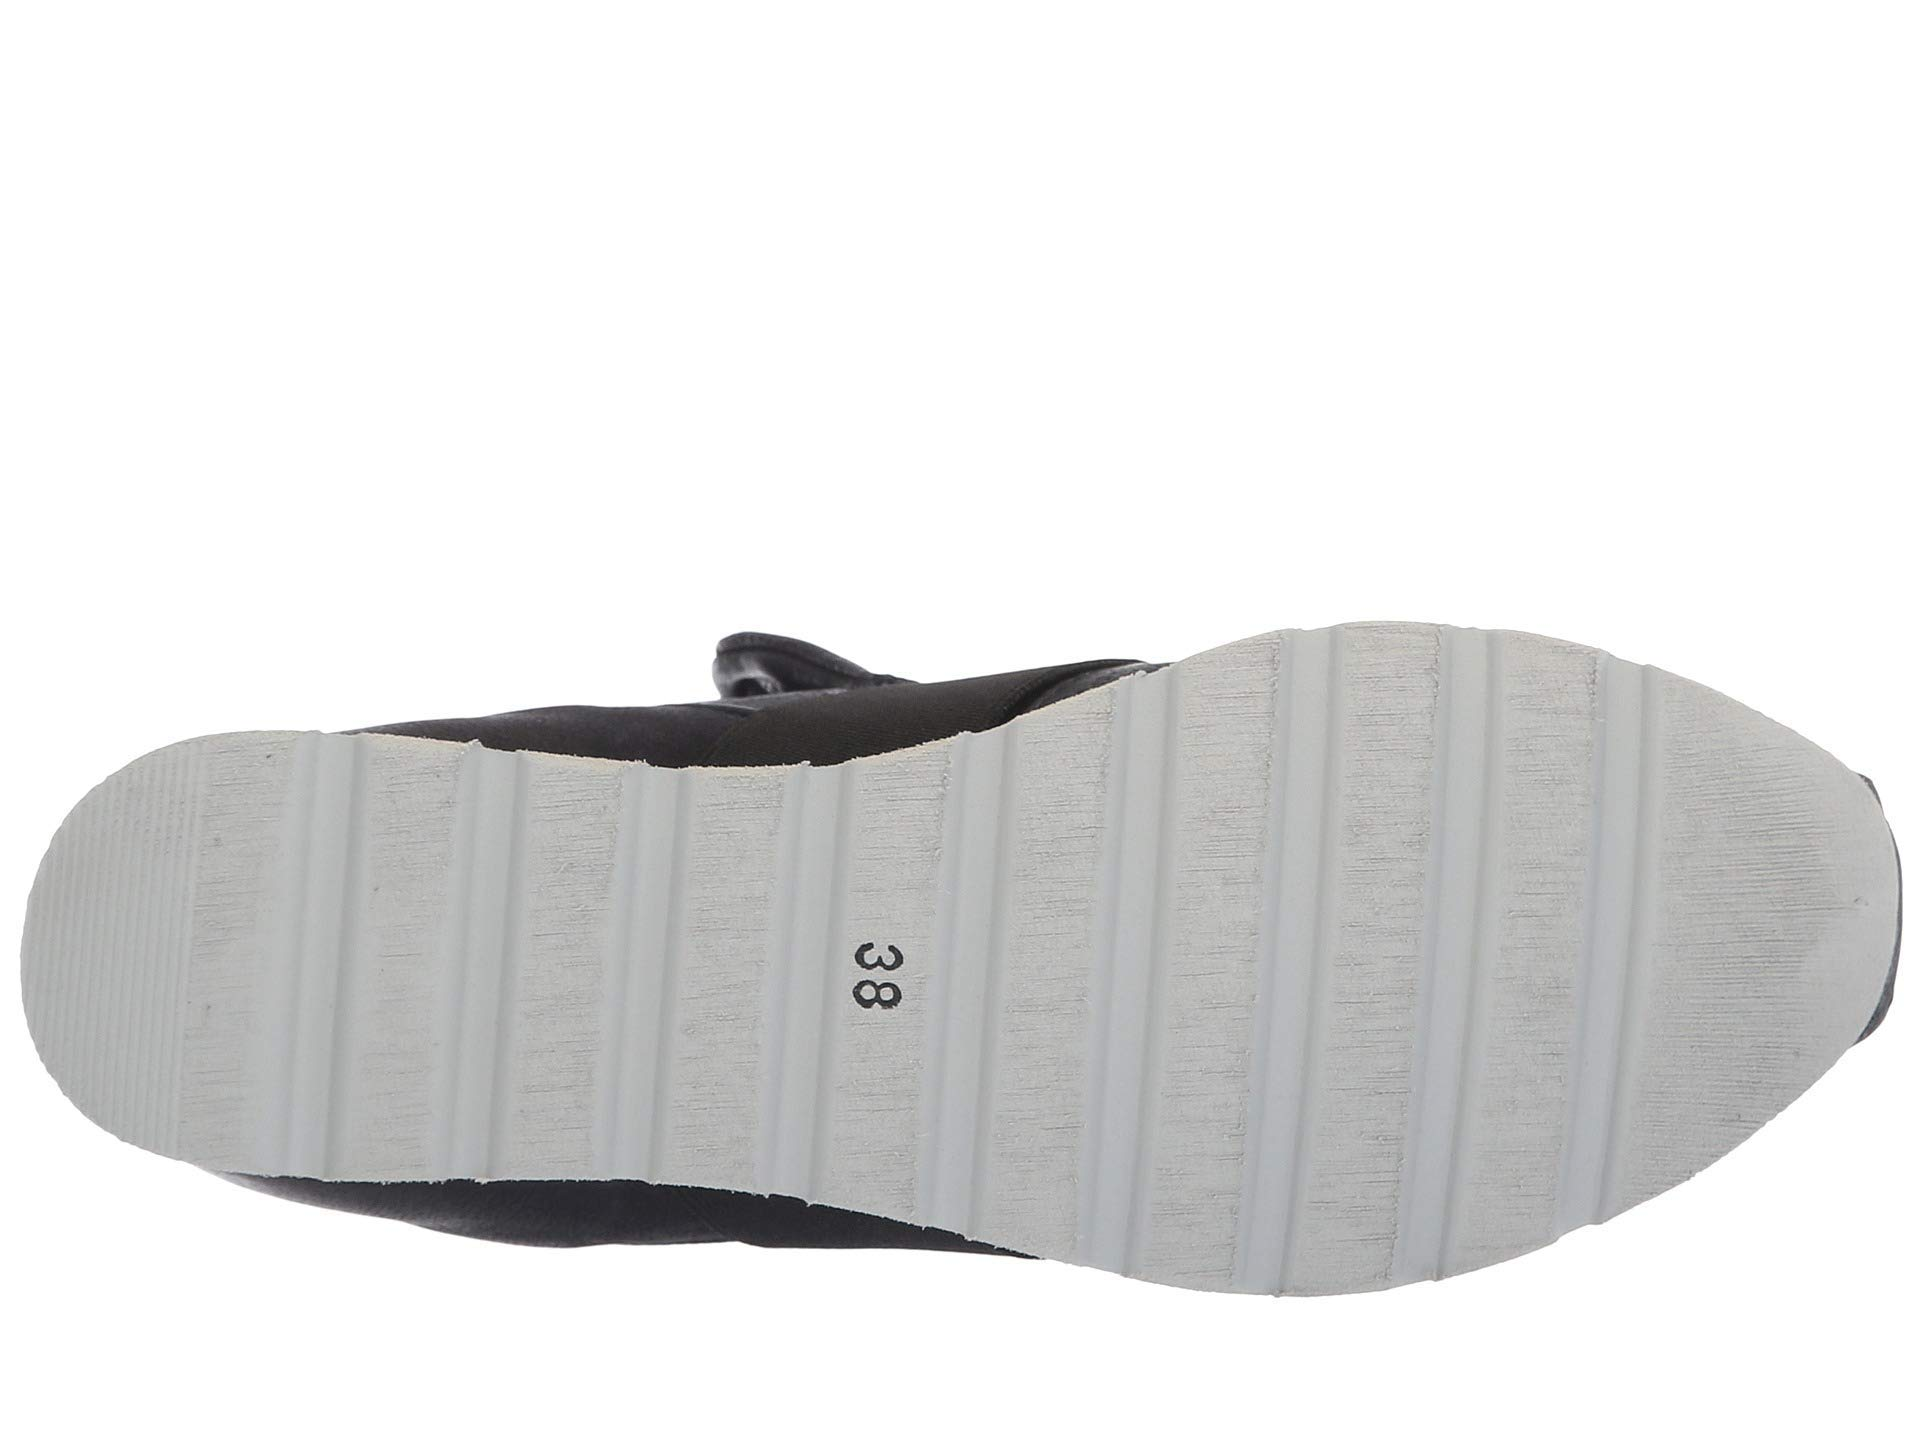line: (662, 740, 1092, 1265)
quad: (662, 740, 1092, 1265)
text: (662, 740, 1092, 1265)
